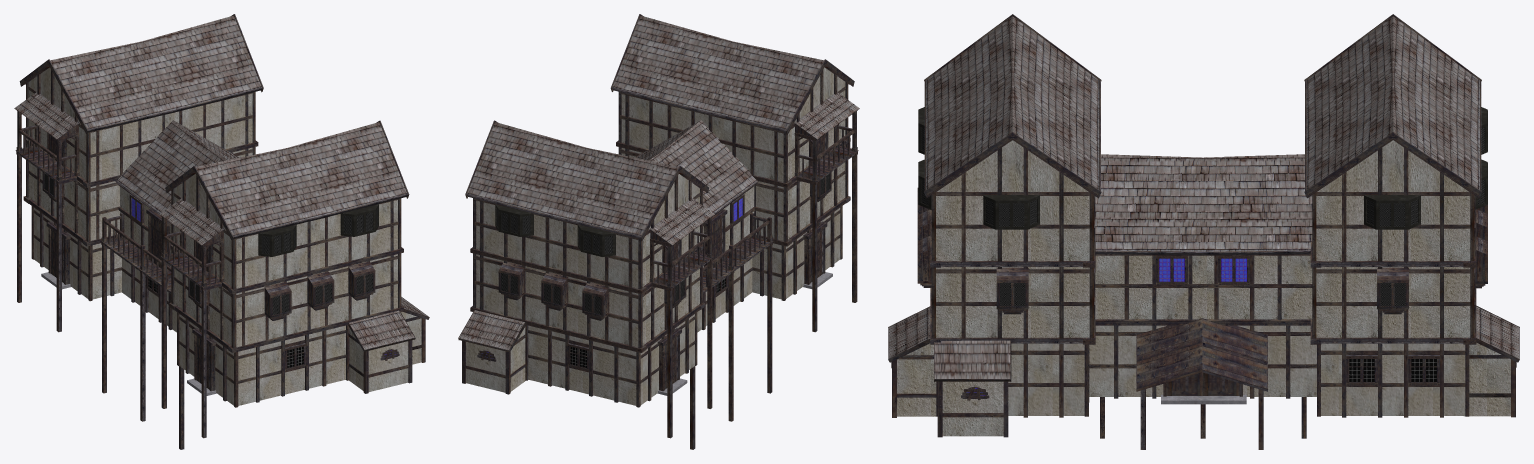
Rendered from hhouse03.dae.
The picture shows the model from 3 angles, left to right: view 1: azimuth 30°, elevation 25°; view 2: azimuth 150°, elevation 25°; view 3: azimuth 270°, elevation 25°; orthographic projection. The views are drawn at different scales.
Parts seen in each view (by area): view 1: House2_Roof, House2_Roof_001, House2_Level3_001, House2_Level2_001, House2_Level3, House2_Level1_001, House1_Roof, House2_Level1_Beams_001, House2_Level2_Beams_001, House2_Level2, House2_Level3_Beams, House2_Level3_Beams_001 (+38 smaller); view 2: House2_Roof, House2_Roof_001, House2_Level3, House2_Level2, House2_Level3_001, House2_Level1, House1_Roof, House2_Level2_Beams, House2_Level3_Beams_001, House2_Level1_Beams, House2_Level3_Beams, House2_Level2_001 (+39 smaller); view 3: House1_Roof, House2_Roof, House2_Roof_001, House2_Level3_001, House2_Level3, House1_Level2, House2_Level2_001, House2_Level2, House2_Level1, House1_Level1, House2_Level1_001, Roof1Outer_001 (+38 smaller).
Part boxes in pixels (<box>): House2_Roof: <box>50,15,261,129</box>; House2_Roof_001: <box>196,122,407,235</box>; House2_Level3_001: <box>174,174,397,288</box>; House2_Level2_001: <box>174,254,397,347</box>; House2_Level3: <box>29,67,252,181</box>; House2_Level1_001: <box>179,314,345,405</box>; House1_Roof: <box>117,120,237,213</box>; House2_Level1_Beams_001: <box>177,312,349,407</box>; House2_Level2_Beams_001: <box>171,250,401,348</box>; House2_Level2: <box>29,147,252,240</box>; House2_Level3_Beams: <box>26,69,255,182</box>; House2_Level3_Beams_001: <box>171,176,401,289</box>; House2_Roof: <box>467,122,678,235</box>; House2_Roof_001: <box>613,15,823,129</box>; House2_Level3: <box>476,174,699,288</box>; House2_Level2: <box>476,254,699,347</box>; House2_Level3_001: <box>621,67,845,181</box>; House2_Level1: <box>528,314,694,405</box>; House1_Roof: <box>636,120,757,213</box>; House2_Level2_Beams: <box>473,250,702,348</box>; House2_Level3_Beams_001: <box>618,70,848,182</box>; House2_Level1_Beams: <box>525,312,697,407</box>; House2_Level3_Beams: <box>473,176,702,289</box>; House2_Level2_001: <box>621,148,845,240</box>; House1_Roof: <box>1095,154,1312,251</box>; House2_Roof: <box>1306,16,1479,189</box>; House2_Roof_001: <box>926,16,1099,189</box>; House2_Level3_001: <box>936,140,1089,260</box>; House2_Level3: <box>1316,140,1470,260</box>; House1_Level2: <box>1095,255,1312,319</box>; House2_Level2_001: <box>936,267,1089,337</box>; House2_Level2: <box>1316,267,1470,337</box>; House2_Level1: <box>1321,343,1465,415</box>; House1_Level1: <box>1089,325,1316,396</box>; House2_Level1_001: <box>1008,343,1084,415</box>; Roof1Outer_001: <box>1137,342,1267,388</box>.
Bounding box in the file's own units: 11.35 × 19.7 × 14.09.
28 materials, 28 textured.
